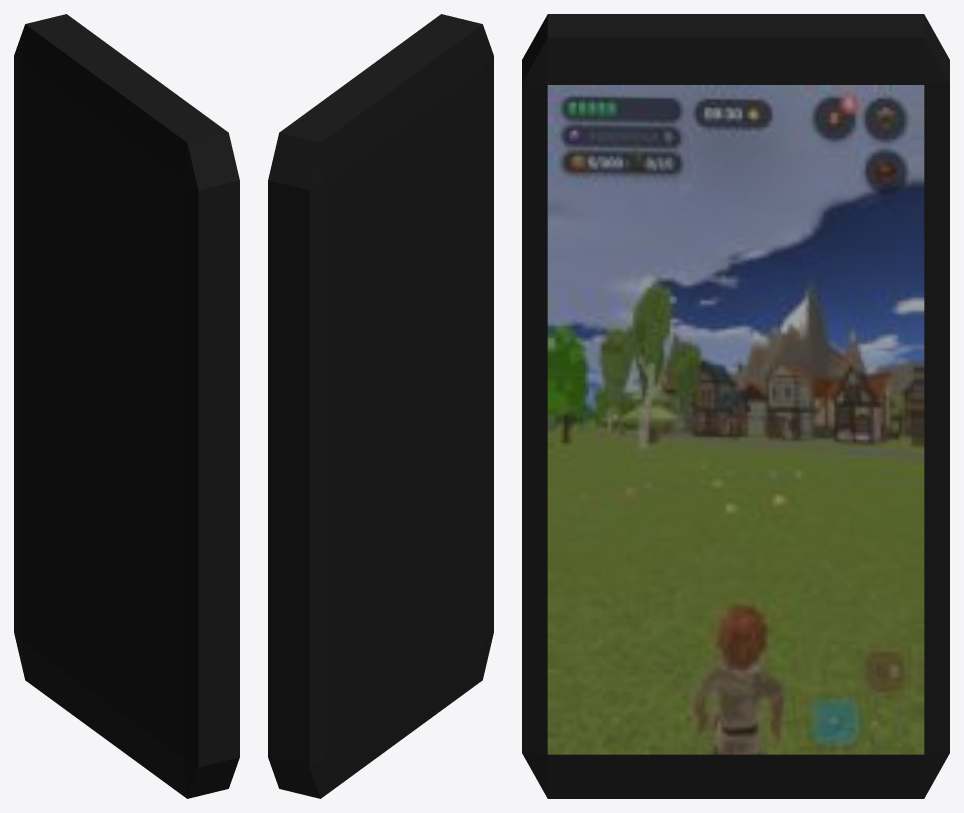
File: hint_phone.glb
The picture shows the model from 3 angles, left to right: view 1: azimuth 30°, elevation 25°; view 2: azimuth 150°, elevation 25°; view 3: azimuth 270°, elevation 25°; orthographic projection. The views are drawn at different scales.
Parts seen in each view (by area): view 1: Cube.001; view 2: Cube.001; view 3: Cube.001.
Boxes of the visible parts, box(x1,y1,x2,y2) form: Cube.001: box(14, 14, 239, 798); Cube.001: box(268, 14, 493, 798); Cube.001: box(522, 14, 949, 798).
Size of the model in its own units: 0.0872 by 1.16 by 0.5907.
Materials: 2 (1 with a texture image).
